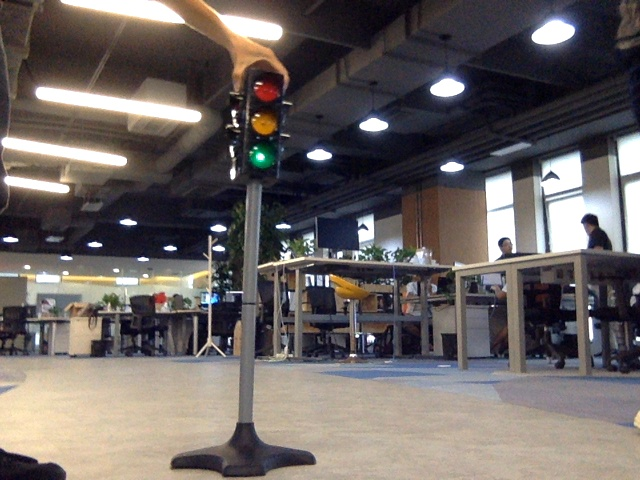green: (248, 83, 276, 174)
